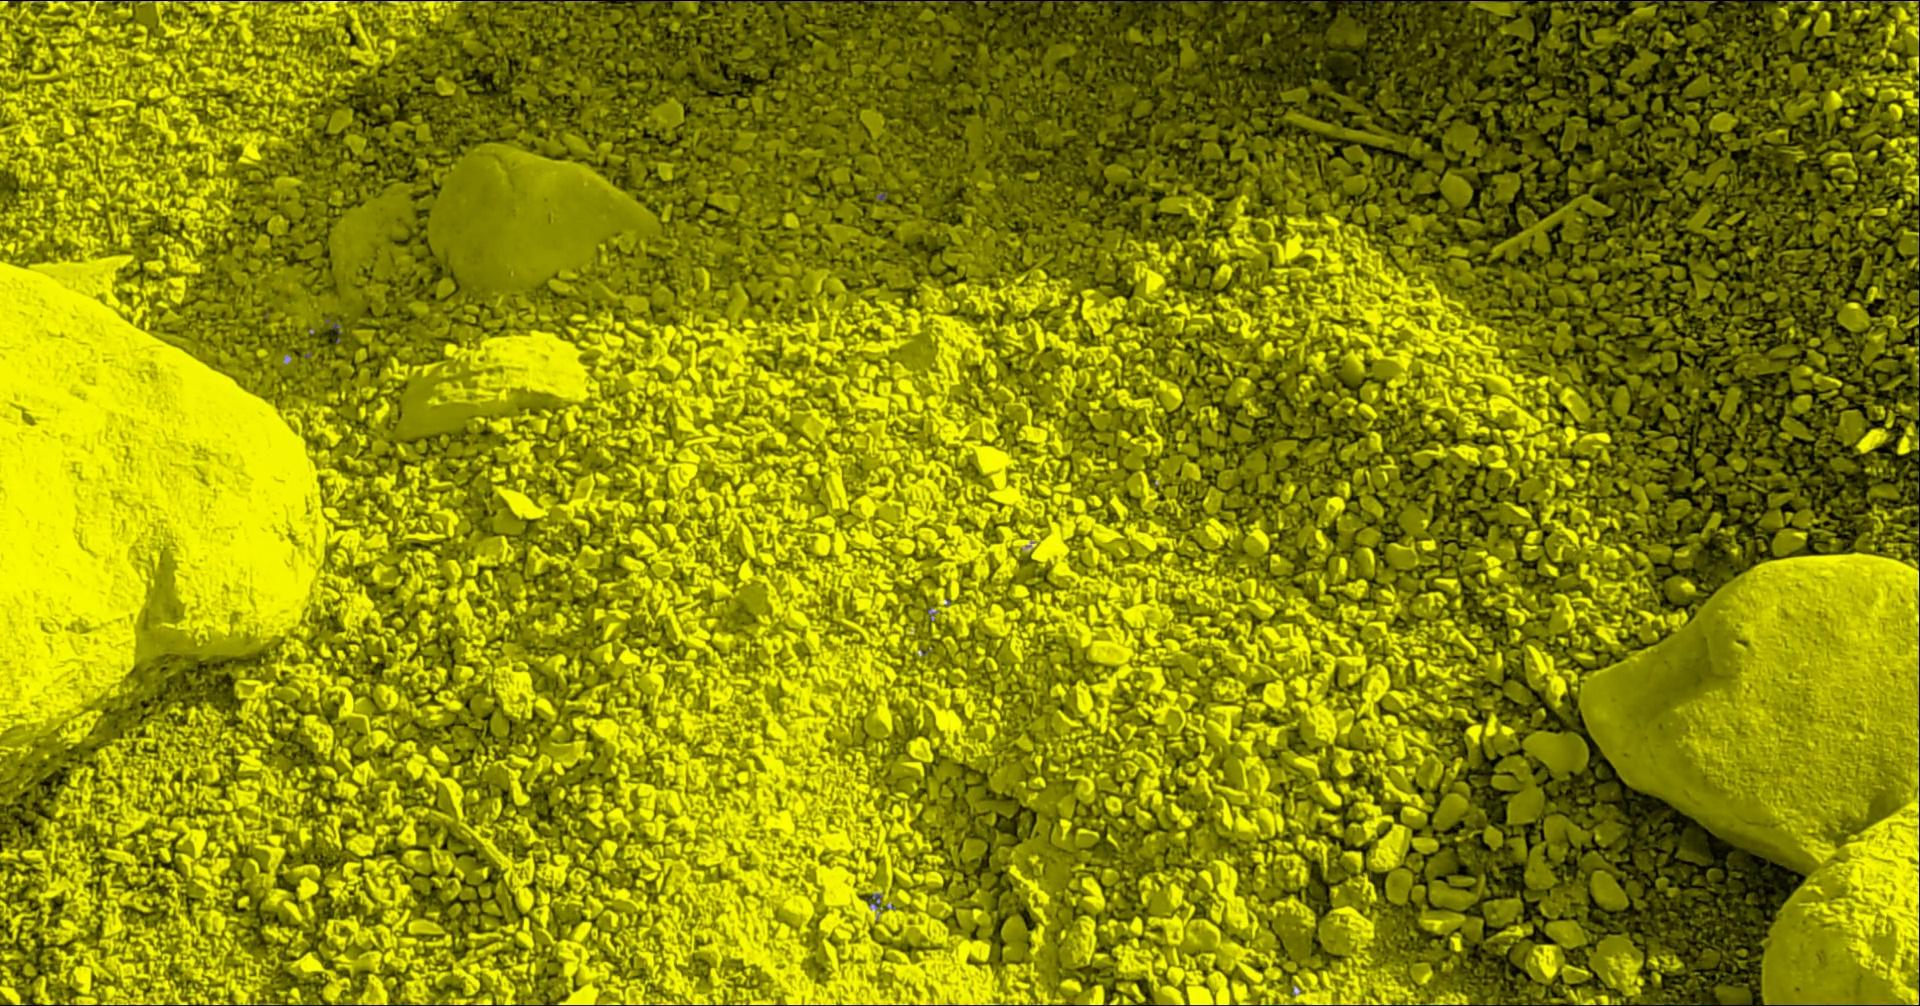ant: (867, 894, 883, 907), (758, 0, 825, 1), (1224, 0, 1275, 1)
